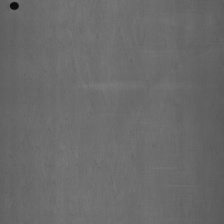punching_hole: (8, 0, 21, 12)
